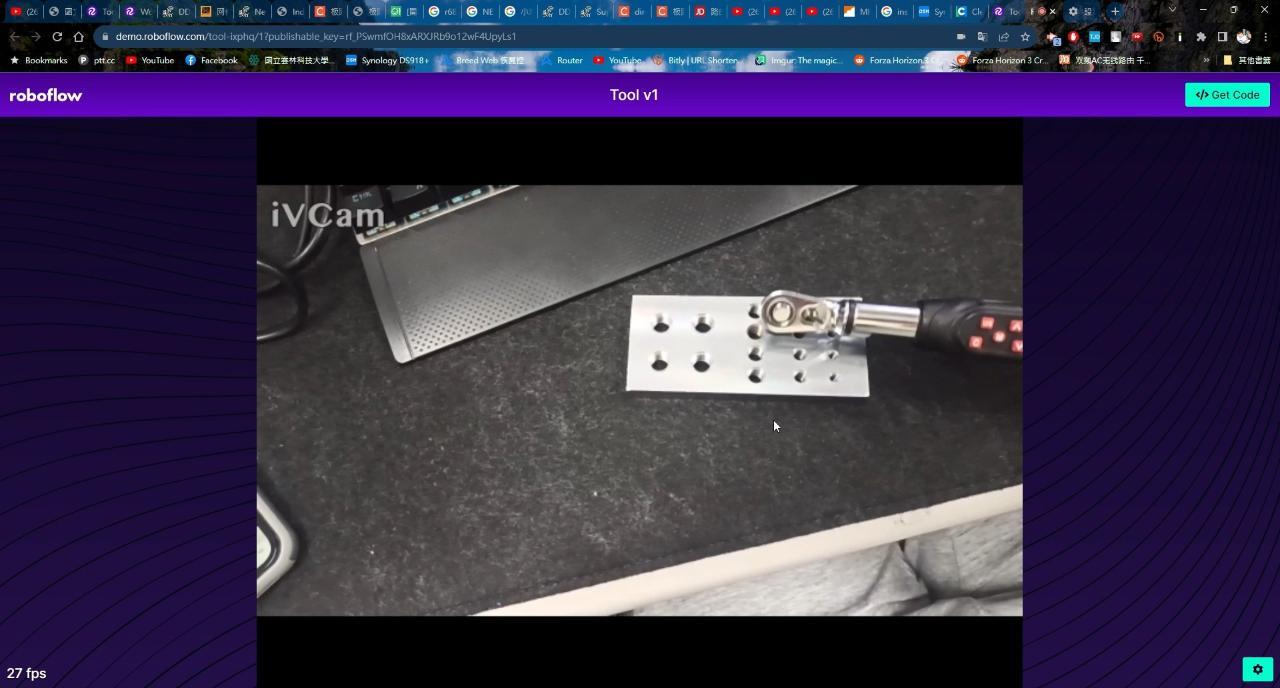Tool: (761, 285, 841, 339)
hole: (690, 316, 725, 336), (649, 317, 685, 336), (742, 321, 776, 341), (650, 356, 682, 375), (691, 358, 722, 375), (749, 368, 777, 385), (750, 350, 775, 364), (788, 348, 812, 359), (821, 352, 844, 363), (798, 370, 819, 382), (830, 371, 850, 381)
